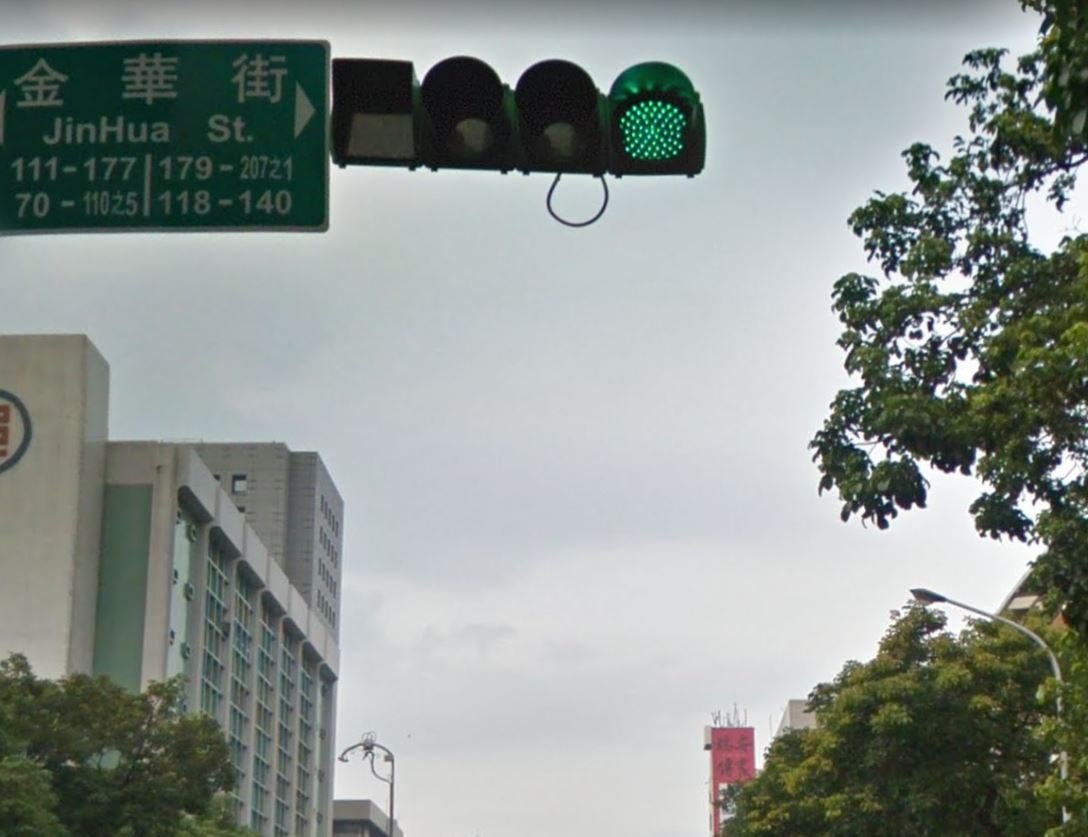Traffic_light_green: (326, 51, 709, 178)
